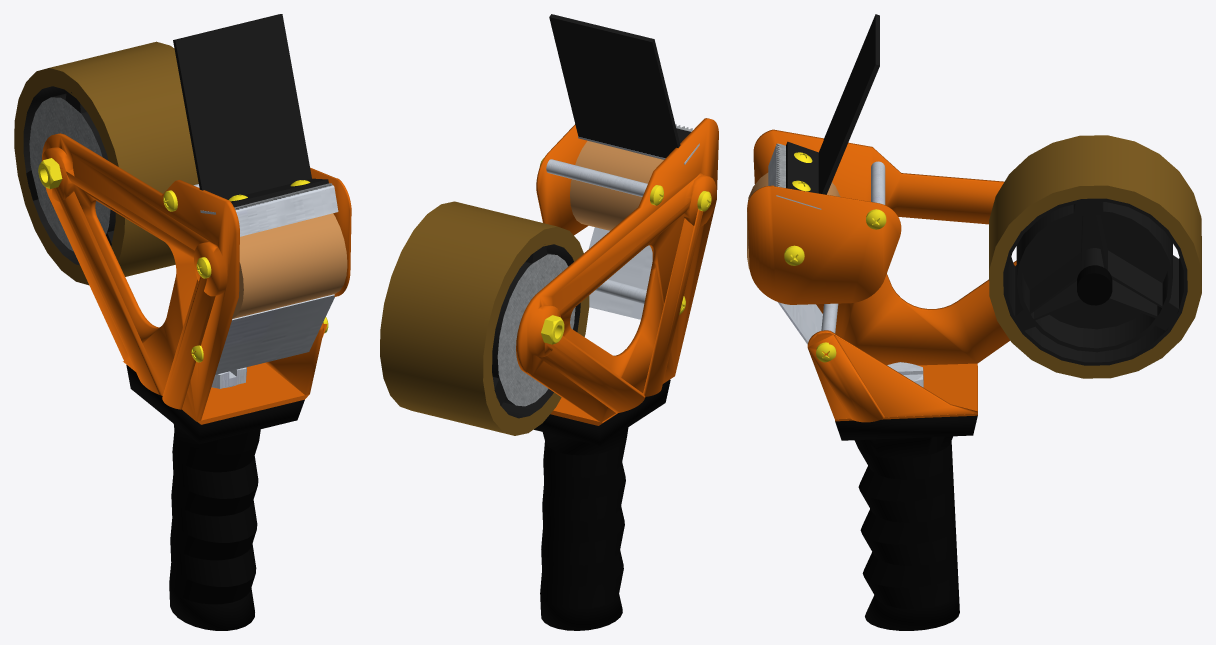
Rendered from Klebebandabroller.FBX.
The picture shows the model from 3 angles, left to right: view 1: azimuth 30°, elevation 25°; view 2: azimuth 150°, elevation 25°; view 3: azimuth 270°, elevation 25°; orthographic projection. The views are drawn at different scales.
Visible parts, largest first — view 1: Group_011, Group_001, Group_010, Group_024, Group_013, Group_006, Group_004, Group_014, Group_020, Group_015, Group_016, Klebebandabroller (+3 smaller); view 2: Group_001, Group_011, Group_010, Group_024, Group_004, Group_013, Group_016, Group_006, Group_017, Group_007, Klebebandabroller, Group_014 (+1 smaller); view 3: Group_001, Group_010, Group_004, Group_011, Group_016, Group_015, Group_024, Group_014, Klebebandabroller, Group_023, Group_003, Group_006.
Part boxes in pixels (x1,y1,x2,y2): Group_011: [41, 133, 239, 421]; Group_001: [14, 41, 198, 285]; Group_010: [126, 365, 304, 630]; Group_024: [173, 14, 311, 199]; Group_013: [232, 213, 347, 318]; Group_006: [215, 294, 334, 374]; Group_004: [26, 91, 115, 251]; Group_014: [201, 363, 304, 424]; Group_020: [236, 188, 338, 236]; Group_015: [265, 323, 327, 395]; Group_016: [310, 167, 351, 296]; Klebebandabroller: [163, 180, 328, 362]; Group_001: [380, 201, 589, 435]; Group_011: [516, 118, 718, 422]; Group_010: [534, 379, 670, 630]; Group_024: [549, 14, 680, 158]; Group_004: [492, 246, 575, 406]; Group_013: [570, 141, 663, 230]; Group_016: [536, 124, 588, 235]; Group_006: [588, 227, 652, 319]; Group_017: [546, 159, 647, 196]; Group_007: [595, 279, 646, 303]; Klebebandabroller: [539, 158, 711, 314]; Group_014: [550, 397, 598, 425]; Group_001: [989, 135, 1201, 378]; Group_010: [835, 415, 977, 630]; Group_004: [1014, 200, 1178, 352]; Group_011: [753, 129, 1016, 365]; Group_016: [747, 185, 901, 304]; Group_015: [807, 330, 977, 422]; Group_024: [818, 14, 879, 194]; Group_014: [918, 363, 977, 414]; Klebebandabroller: [784, 152, 886, 362]; Group_023: [786, 141, 818, 193]; Group_003: [1077, 265, 1112, 305]; Group_006: [778, 302, 822, 344].
Size of the model in its own units: 27.5 by 105 by 75.19.
8 materials, 2 textured.
